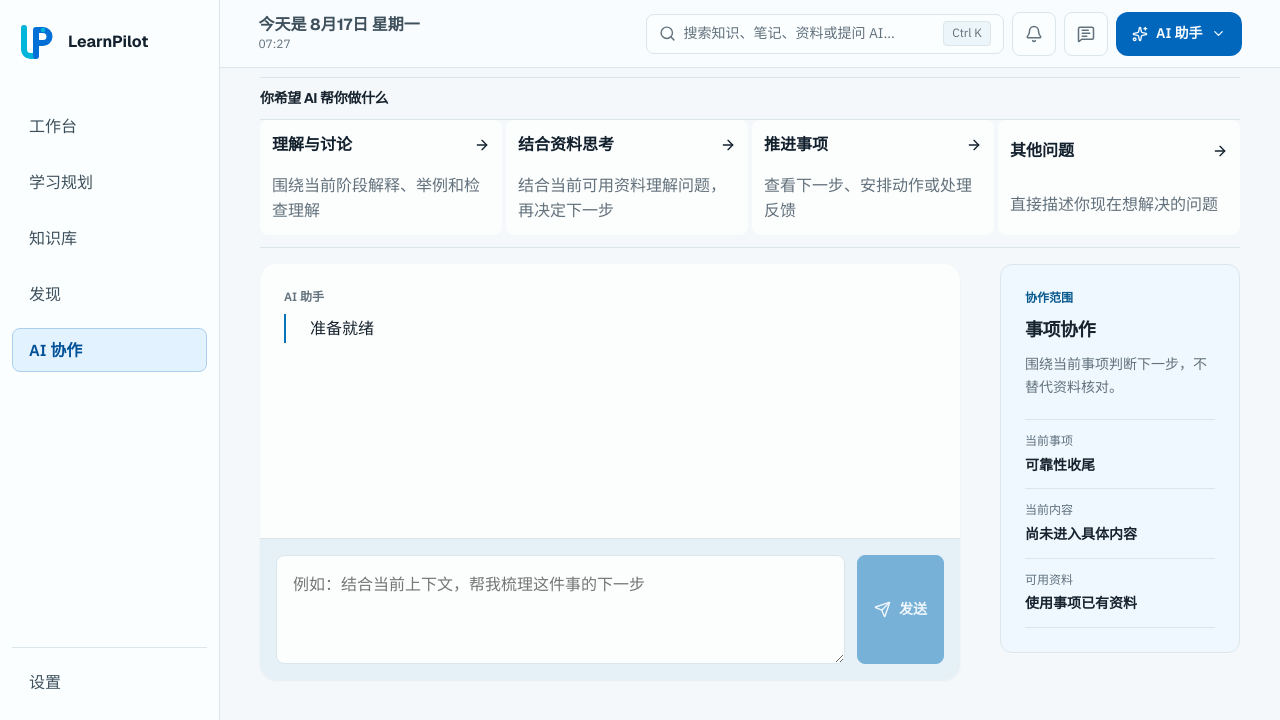
Scenario: AI 协作 › SSE 完成后以持久化消息替换临时回答，不重复渲染
(page scrolled)
Expected: the text "准备就绪" is shown, [284, 314, 936, 343]
Type "梳理下一步" into the text box named "给 AI 协作发送消息" at (560, 609), box [276, 555, 845, 664]
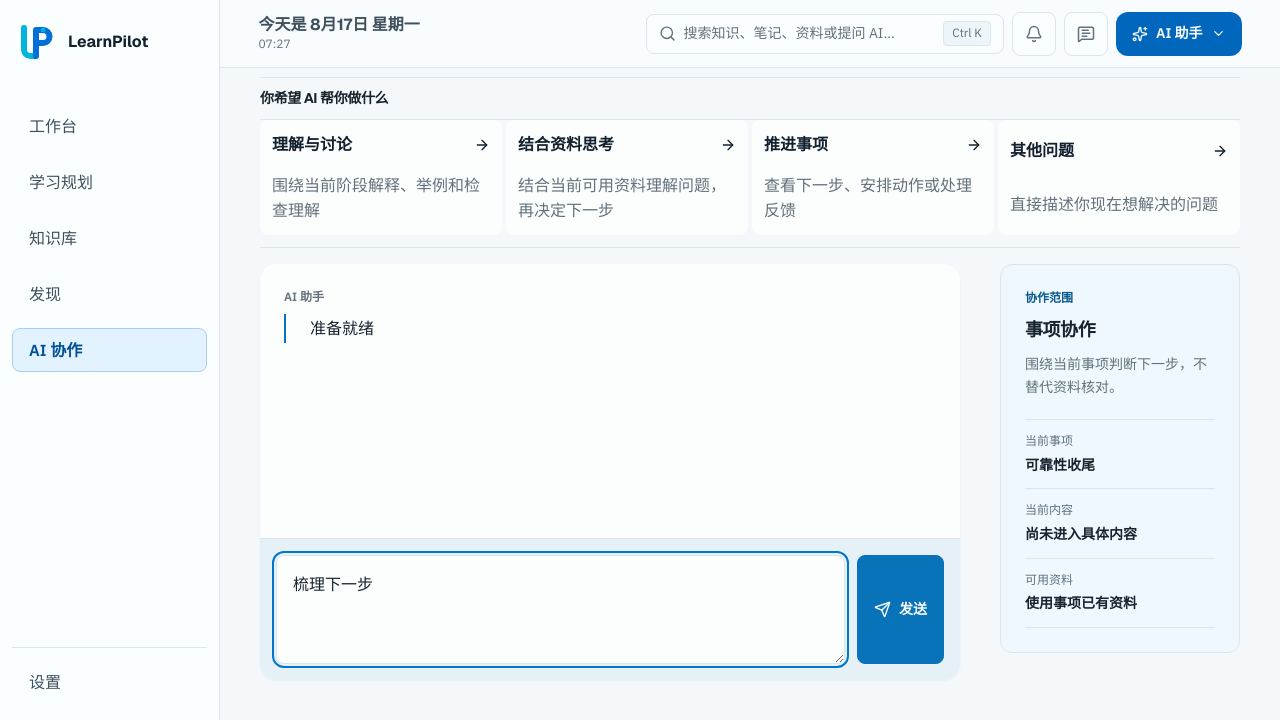
Click the button "发送" at (900, 609), box [857, 555, 944, 664]
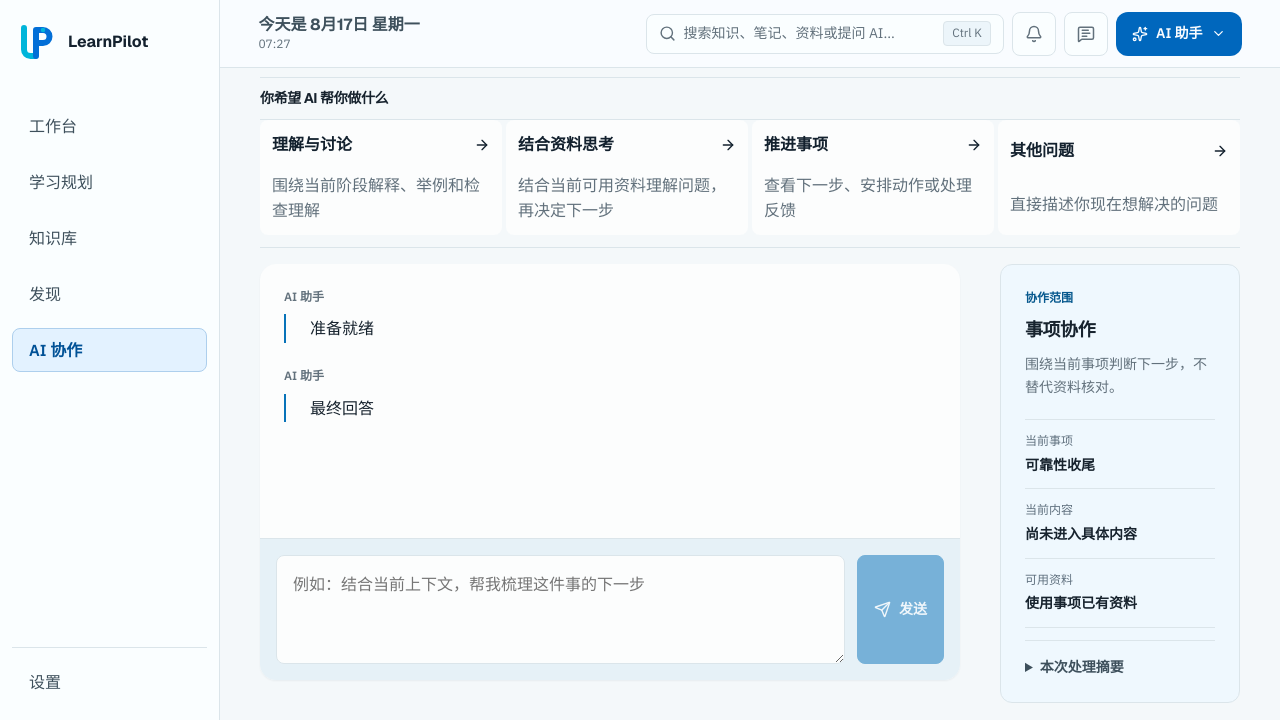
Expected: the text "最终回答" is shown once, [284, 394, 936, 422]
